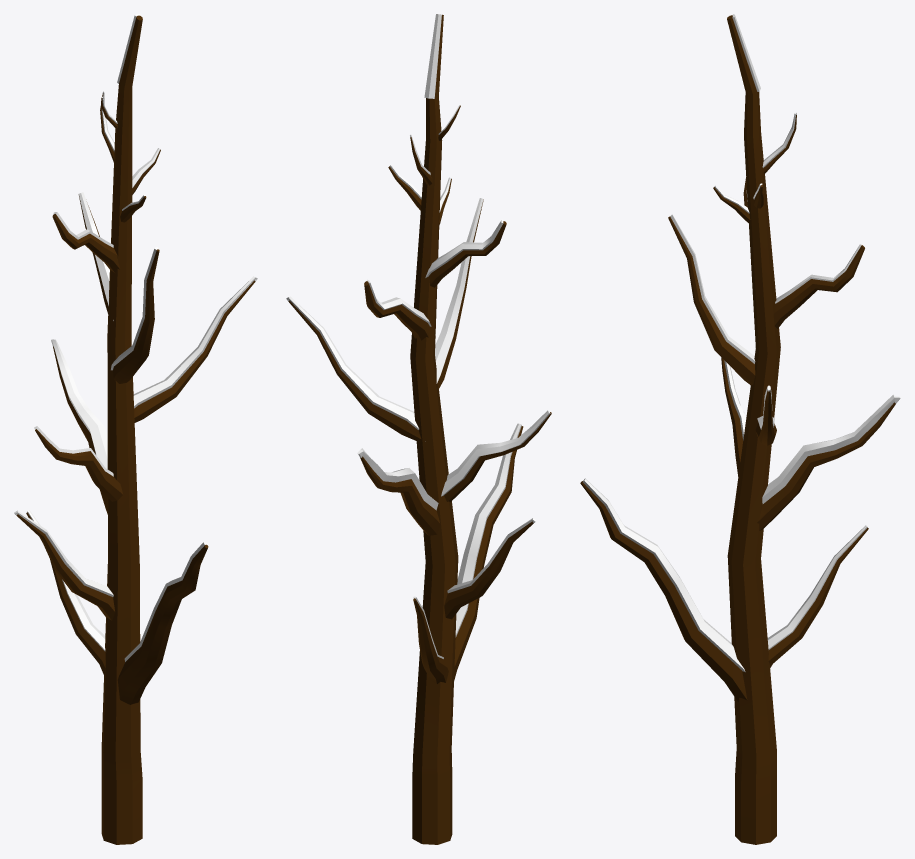
The model's file is christmasDeadTree4.dae.
The picture shows the model from 3 angles, left to right: view 1: azimuth 30°, elevation 25°; view 2: azimuth 150°, elevation 25°; view 3: azimuth 270°, elevation 25°; orthographic projection.
Parts seen in each view (by area): view 1: Dead_tree_four; view 2: Dead_tree_four; view 3: Dead_tree_four.
Boxes of the visible parts, bbox=[...] form: Dead_tree_four: bbox=[14, 14, 257, 844]; Dead_tree_four: bbox=[286, 14, 551, 844]; Dead_tree_four: bbox=[580, 14, 900, 844].
Size of the model in its own units: 0.0395 by 0.0444 by 0.1258.
